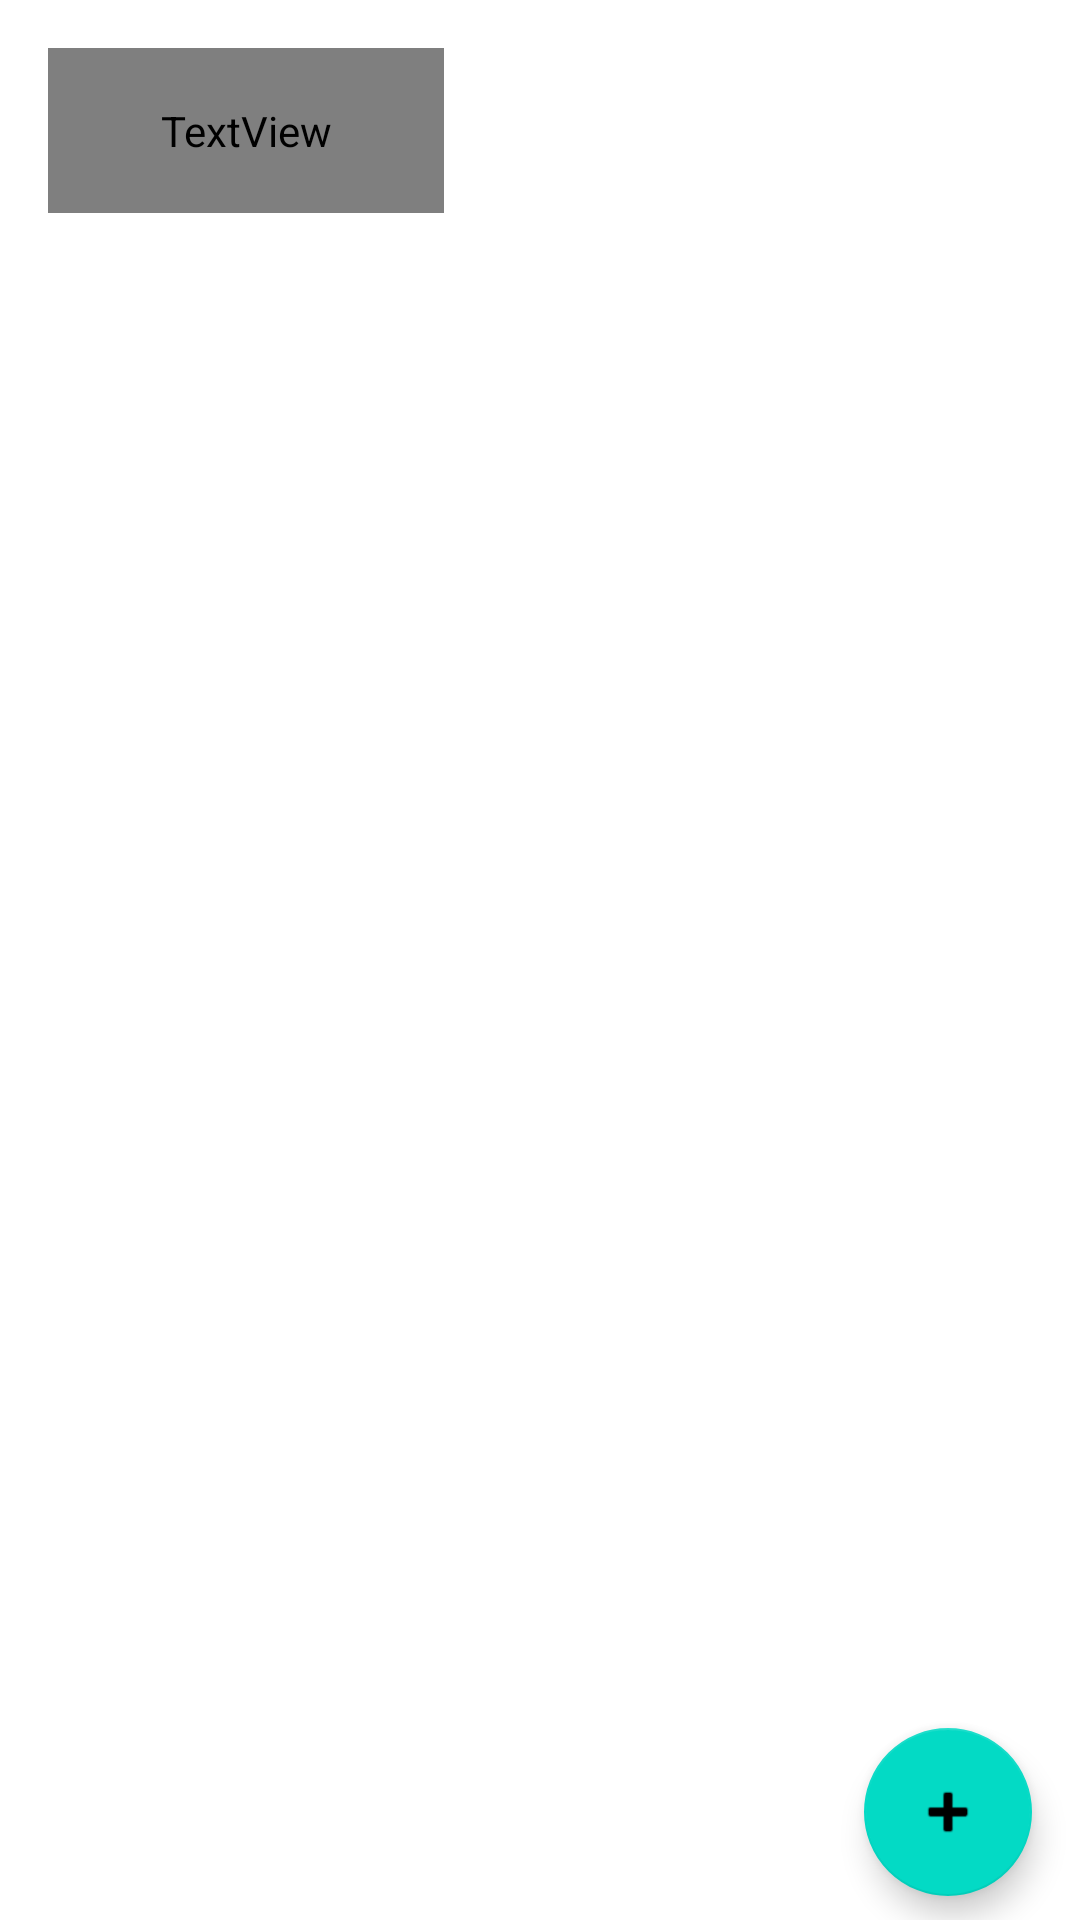

Point at icon controls on the screen. Image size 1080×1920, points as point (x, y).
add: point (948, 1812)
